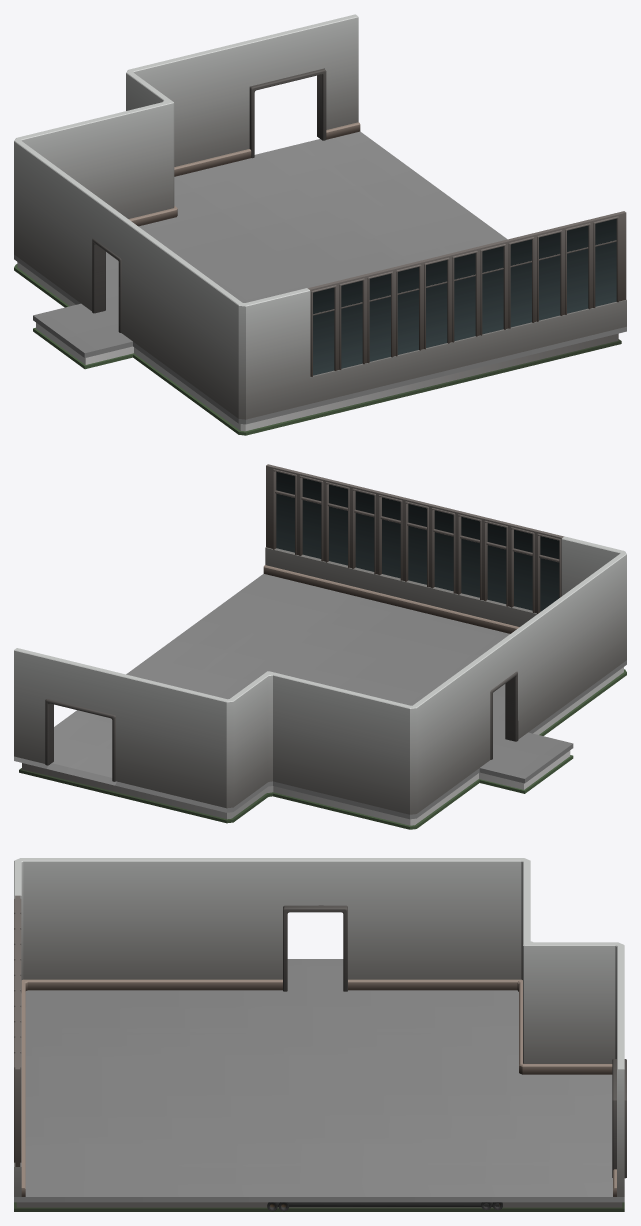
File: walls_floors.fbx
3 renders of one model, top to bottom at view 1: azimuth 30°, elevation 25°; view 2: azimuth 150°, elevation 25°; view 3: azimuth 270°, elevation 25°, orthographic. The views are drawn at different scales.
Visible parts, largest first — view 1: walls, floor, window, window_frames, door_frames, walls_low; view 2: walls, floor, window, window_frames, walls_low, door_frames; view 3: floor, walls, walls_low, door_frames, window_frames, tube.
Part boxes in pixels (box(x1,y1,x2,y2)): walls: box(14, 14, 626, 419); floor: box(14, 131, 626, 435); window: box(313, 218, 616, 375); window_frames: box(308, 211, 626, 376); door_frames: box(92, 68, 326, 332); walls_low: box(129, 122, 360, 226); walls: box(14, 536, 626, 814); floor: box(14, 573, 626, 829); window: box(276, 471, 559, 611); window_frames: box(266, 464, 563, 613); walls_low: box(263, 565, 519, 633); door_frames: box(45, 671, 518, 781); floor: box(14, 959, 624, 1211); walls: box(14, 858, 624, 1196); walls_low: box(21, 979, 616, 1196); door_frames: box(283, 905, 626, 1178); window_frames: box(14, 895, 21, 1166); tube: box(267, 1202, 502, 1211).
Size of the model in its own units: 1438 by 411 by 1566.
